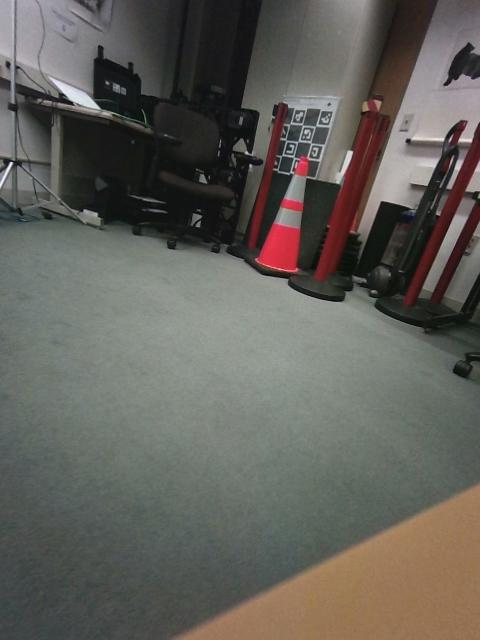block: (5, 418, 118, 509)
